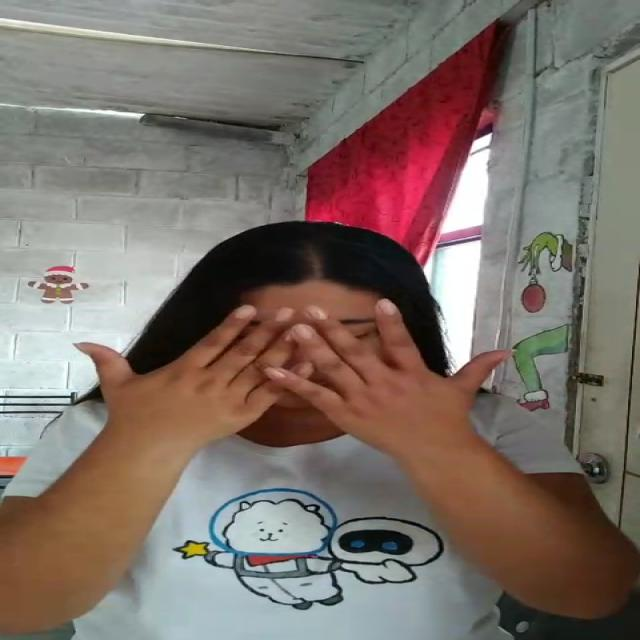7_mano_rostro: (227, 302, 470, 482)
